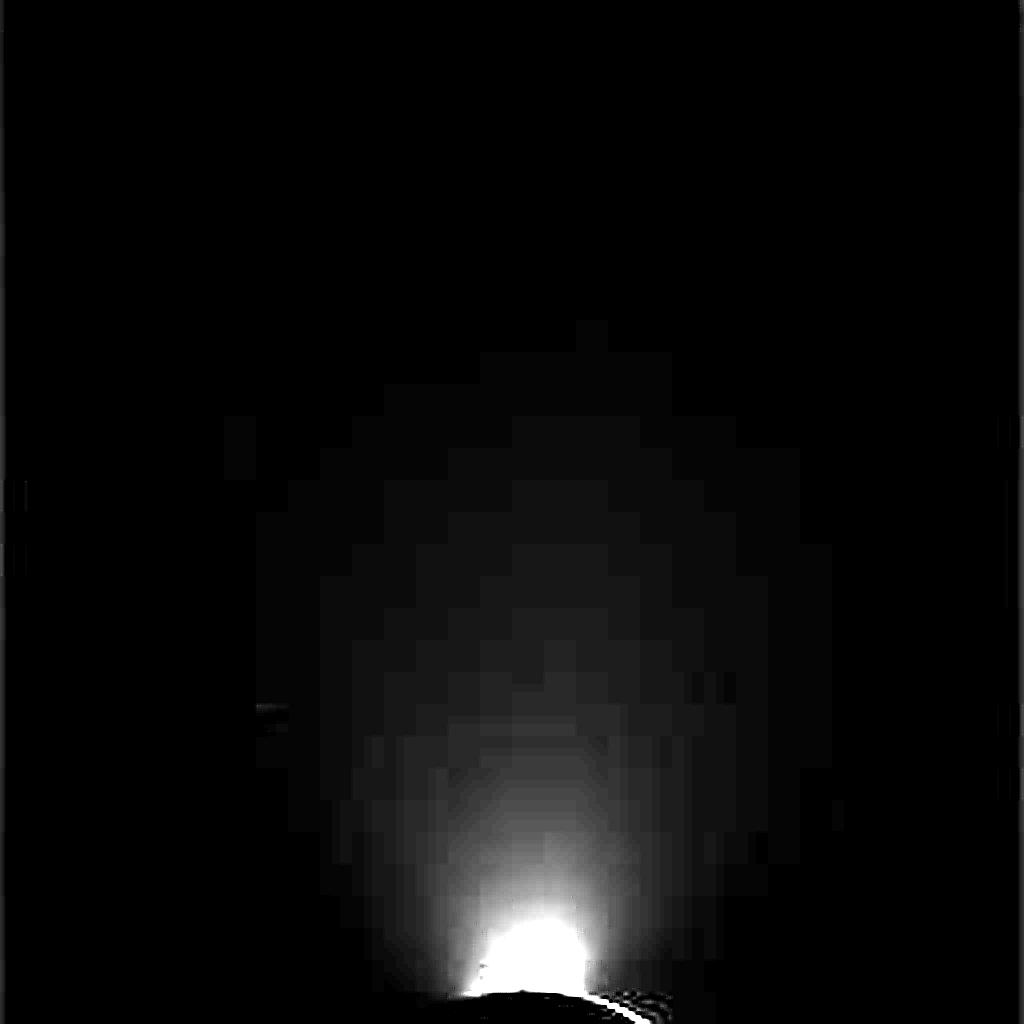plumes: (464, 912, 588, 996)
